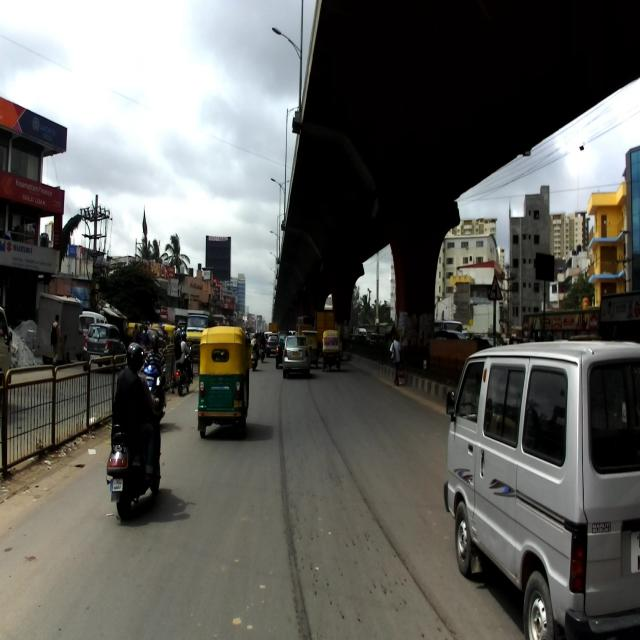autorickshaw: (196, 324, 252, 436)
car: (443, 338, 639, 638)
scooter: (106, 375, 164, 520)
